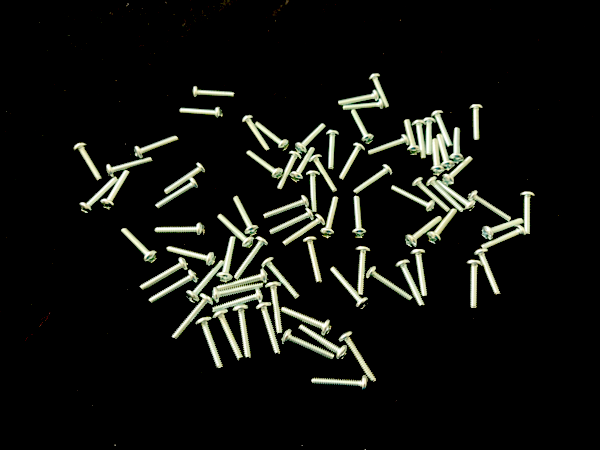longscrew: (337, 330, 377, 384), (171, 293, 215, 341), (298, 323, 349, 362), (365, 265, 413, 304), (148, 269, 200, 305), (281, 328, 336, 362), (184, 260, 226, 304), (330, 266, 370, 311), (139, 257, 190, 292), (212, 309, 245, 362), (261, 257, 301, 300), (233, 235, 270, 281), (280, 305, 333, 337), (154, 177, 202, 211), (394, 258, 426, 309), (195, 317, 225, 370), (282, 213, 327, 248), (472, 248, 503, 298), (467, 189, 512, 223), (78, 177, 119, 214), (254, 302, 282, 356), (164, 162, 208, 196), (120, 227, 159, 265), (426, 176, 465, 214), (410, 177, 451, 213), (217, 213, 256, 250), (436, 179, 477, 213), (268, 208, 316, 237), (390, 184, 436, 214), (353, 164, 394, 197), (99, 170, 131, 212), (215, 268, 270, 292), (262, 194, 310, 221), (404, 215, 443, 248), (212, 289, 265, 313), (310, 375, 369, 396), (309, 154, 339, 195), (301, 236, 326, 285), (426, 208, 459, 245), (232, 305, 254, 360), (241, 115, 272, 154), (73, 142, 103, 182), (276, 149, 303, 193), (246, 150, 284, 181), (480, 225, 527, 250), (166, 245, 217, 268), (338, 142, 366, 183), (212, 282, 264, 304), (232, 195, 259, 237), (294, 122, 327, 155), (441, 155, 475, 187), (255, 121, 290, 152), (133, 136, 180, 159), (264, 281, 284, 335), (106, 156, 155, 178), (216, 236, 238, 284), (465, 259, 485, 311), (367, 134, 411, 157), (409, 248, 429, 298), (289, 147, 316, 184), (481, 218, 524, 241), (353, 246, 372, 297), (320, 196, 341, 240), (350, 109, 375, 145), (368, 73, 392, 110), (154, 222, 206, 239), (431, 109, 453, 149), (337, 89, 380, 108), (519, 190, 536, 236), (436, 133, 456, 171), (179, 105, 224, 121), (305, 170, 321, 214), (403, 119, 421, 157), (412, 118, 428, 160), (192, 85, 236, 100), (469, 103, 485, 144), (353, 196, 368, 239), (342, 98, 385, 113), (325, 129, 339, 171), (423, 116, 437, 157), (450, 126, 465, 164), (430, 138, 445, 176)
